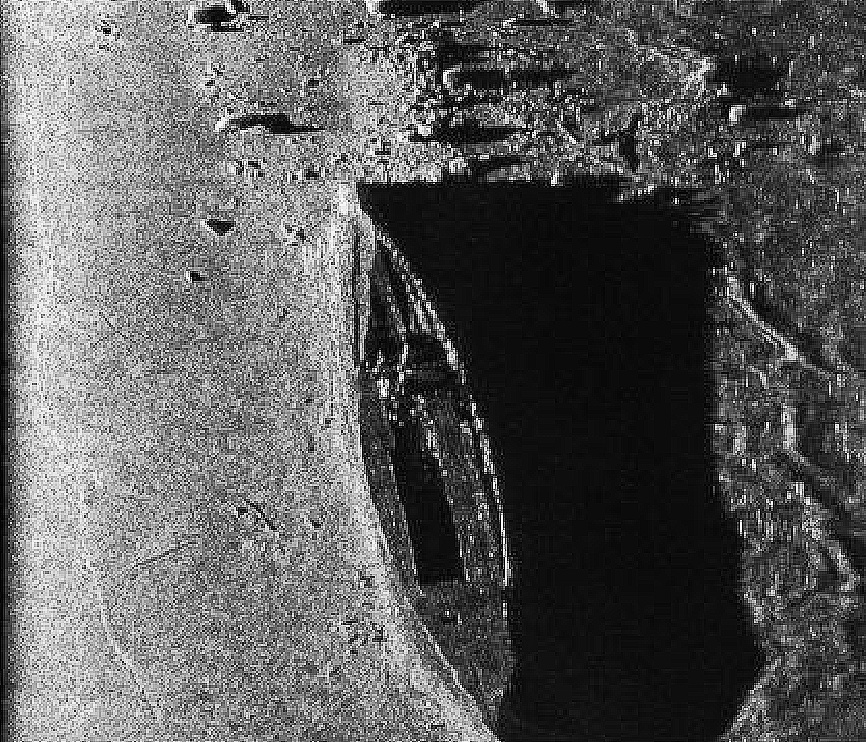ship: (324, 186, 522, 721)
